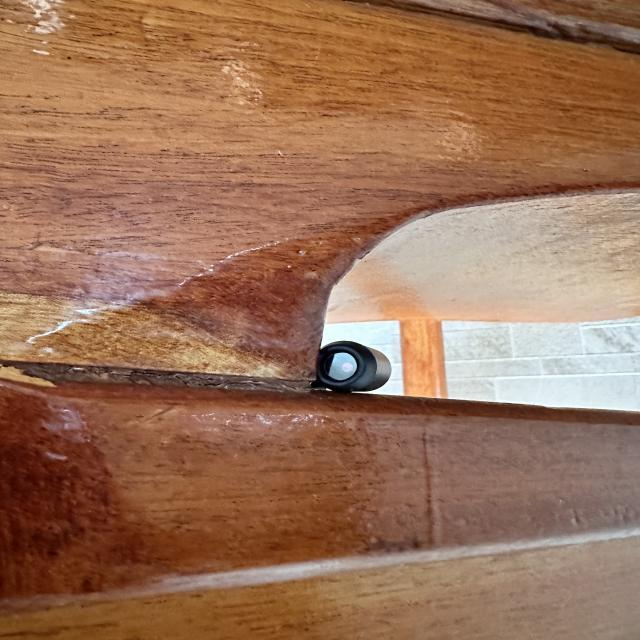hidden camera: (311, 340, 374, 393)
